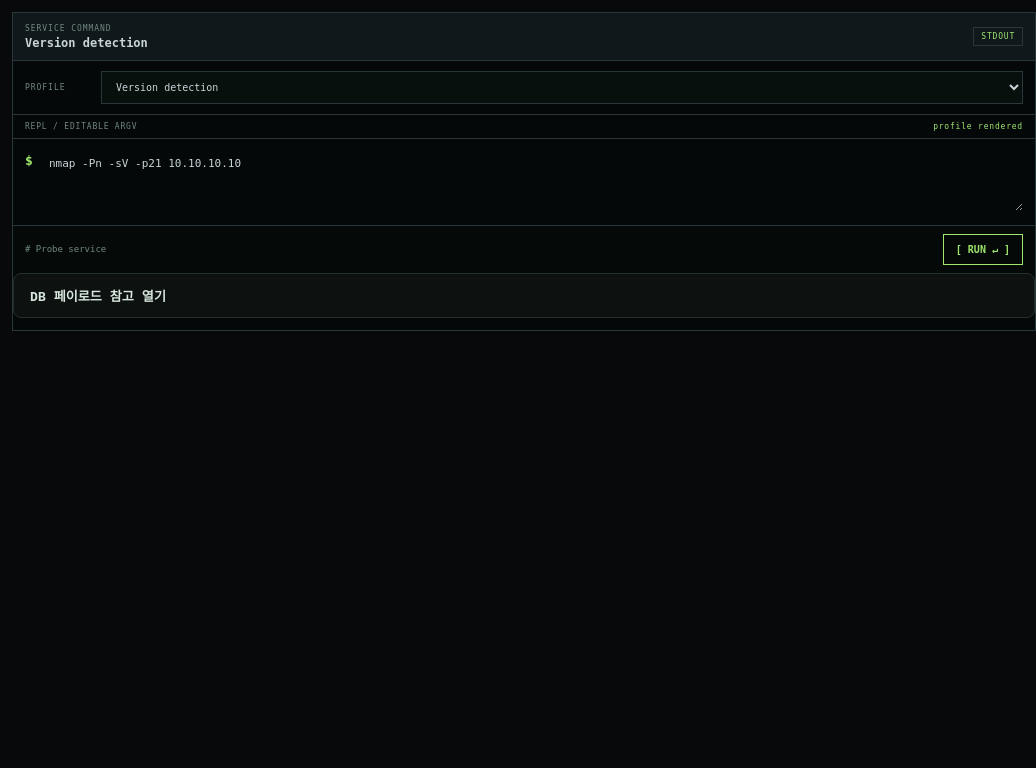
Test case: offers a DB payload reference when the service name matches a DB engine with one
Click the heading "DB 페이로드 참고 열기" at (98, 297), box [30, 289, 166, 304]
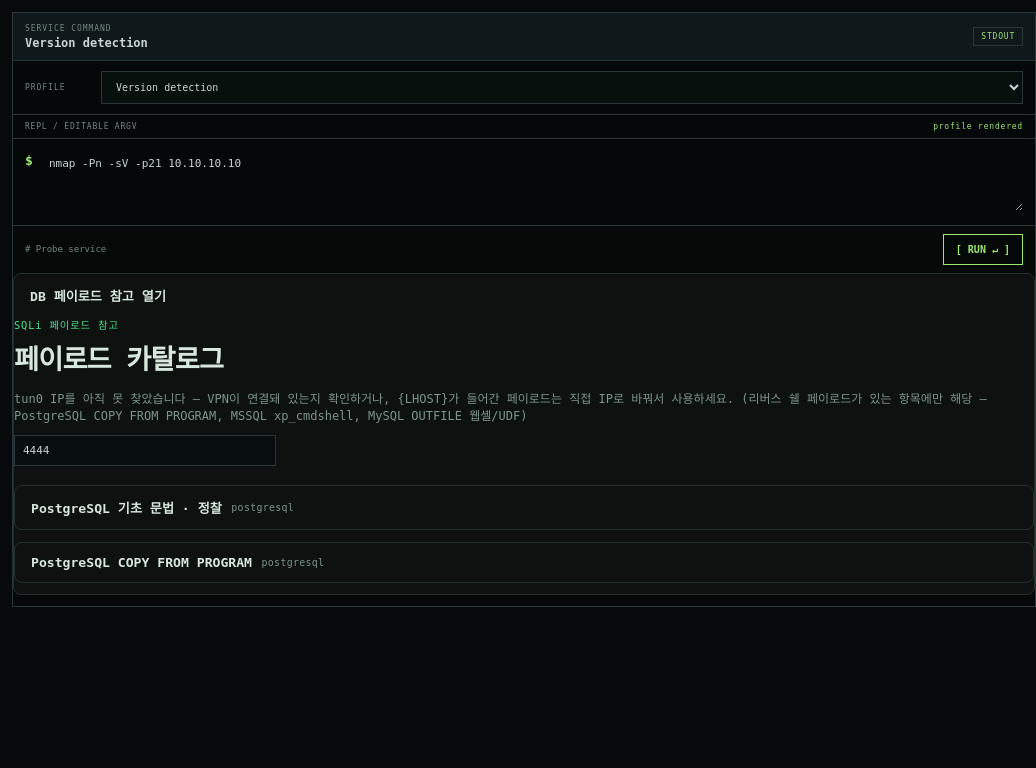
Now the text "PostgreSQL 기초 문법 · 정찰" is shown, box [31, 498, 222, 517]
Now the text "PostgreSQL COPY FROM PROGRAM" is shown, box [31, 555, 252, 570]
